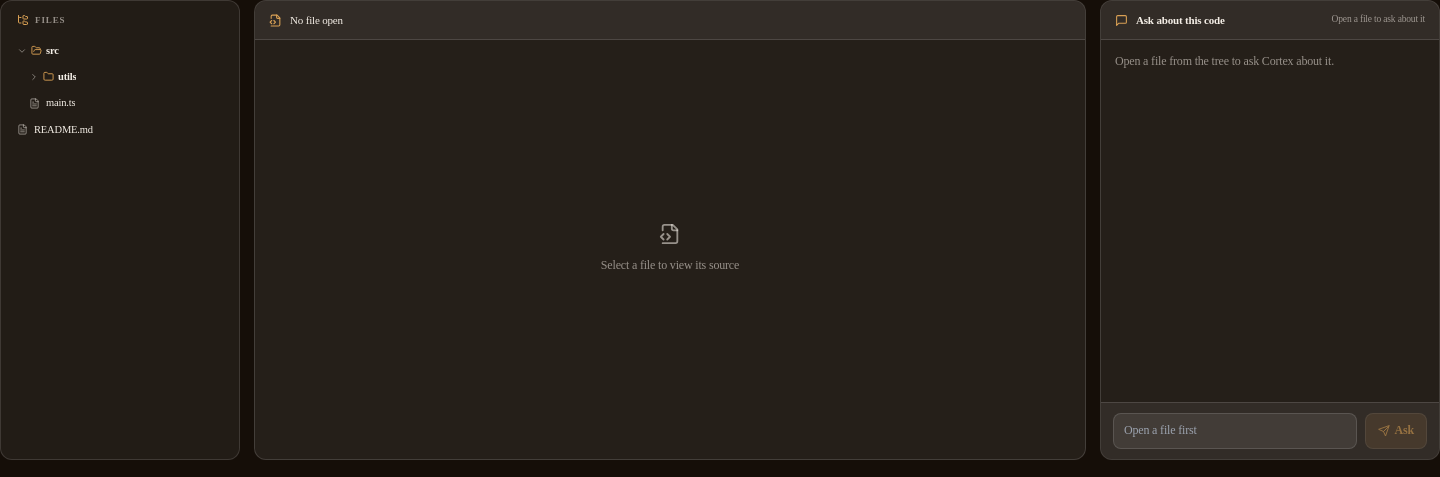
Test case: CodeNavigatorLayout › updates the source view when a file is selected
The image size is (1440, 477).
Expected: the text with test id "source-view-path" reads "No file open", [290,14,343,26]
Click the button with test id "file-tree-file-src/main.ts": (120, 103) [11,90,229,116]
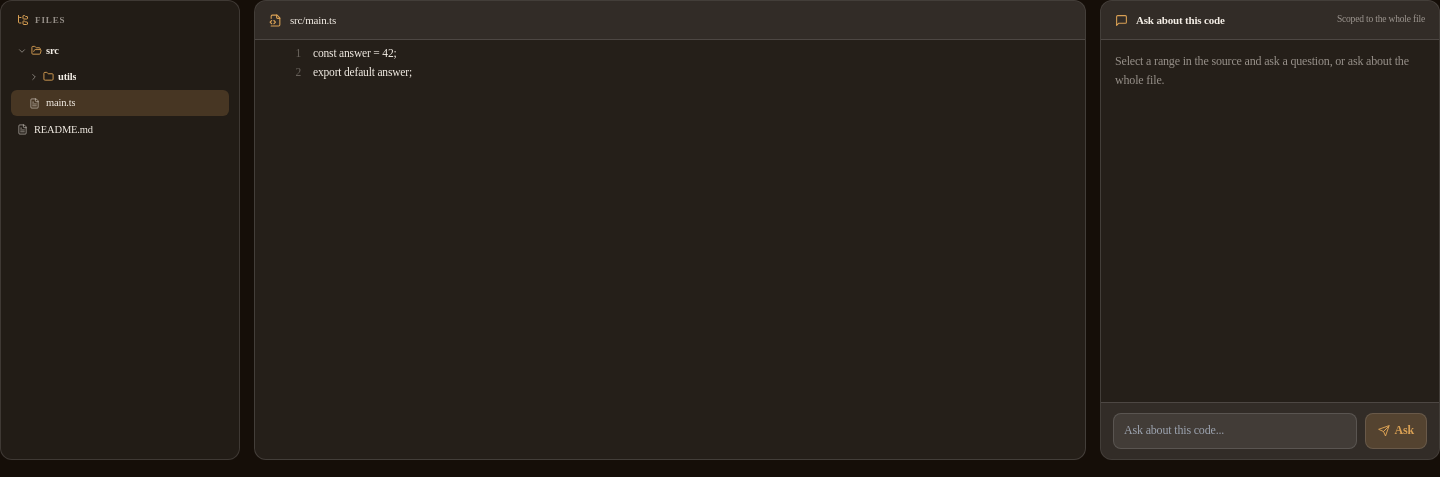
Now the text with test id "source-view-path" reads "src/main.ts", box [290,14,336,26]
Now the element with test id "source-line-1" shows "const answer = 42;", box [313,47,396,59]
